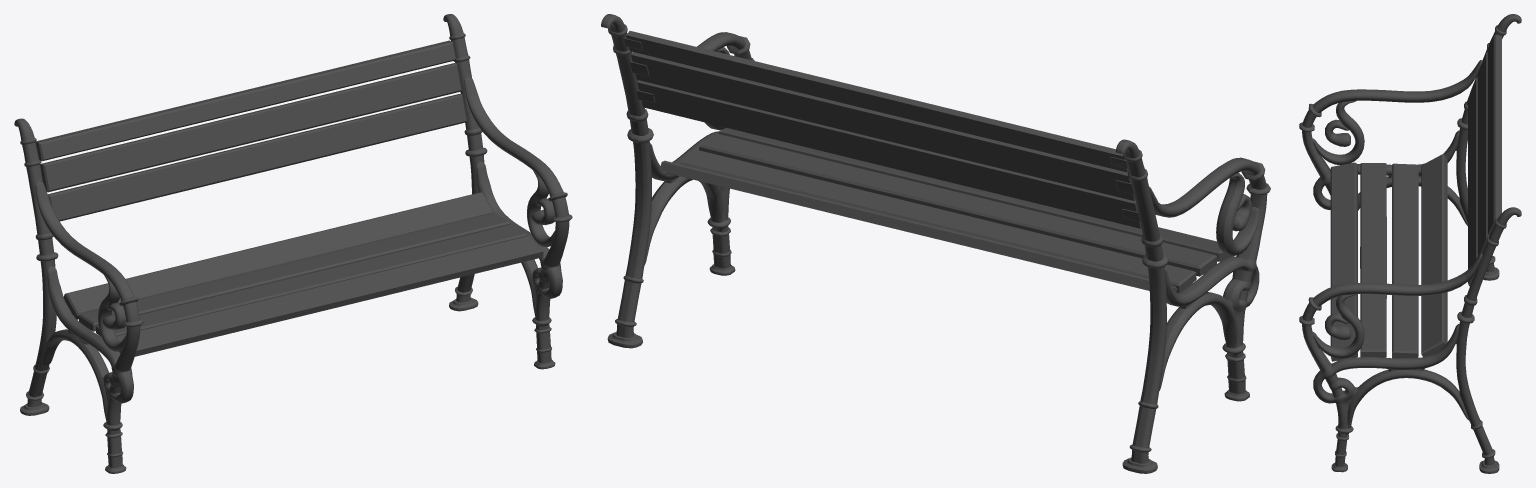
Rendered from bk_park_bench.glb.
3 views of the same model, side by side, from view 1: azimuth 30°, elevation 25°; view 2: azimuth 150°, elevation 25°; view 3: azimuth 270°, elevation 25° (orthographic). The views are drawn at different scales.
Parts seen in each view (by area): view 1: Park Bench; view 2: Park Bench; view 3: Park Bench.
Boxes of the visible parts, left/top/right/bottom form: Park Bench: left=14, top=14, right=572, bottom=473; Park Bench: left=601, top=14, right=1270, bottom=473; Park Bench: left=1299, top=14, right=1521, bottom=473.
Size of the model in its own units: 1.57 by 0.9285 by 0.7197.
Materials: 1 (1 with a texture image).
